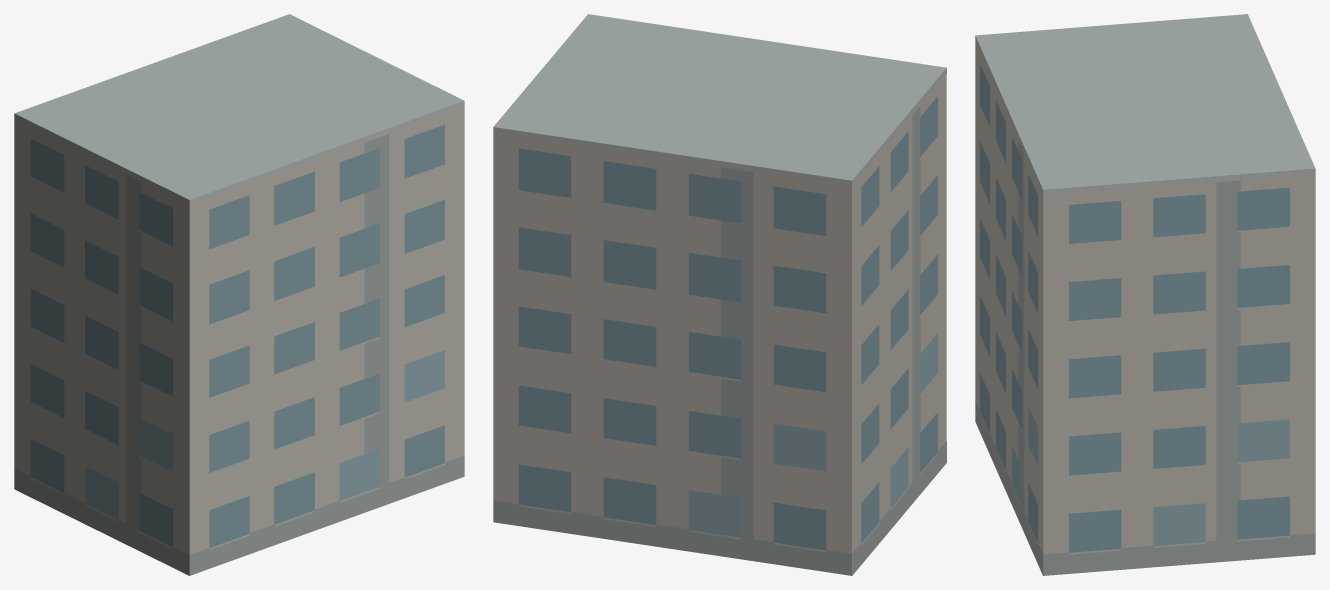
Rendered from residential-e5c7b3e7-d160-48b4-9eb7-259992950f8f.glb.
3 views of the same model, side by side, from view 1: azimuth 30°, elevation 25°; view 2: azimuth 150°, elevation 25°; view 3: azimuth 270°, elevation 25° (orthographic). The views are drawn at different scales.
Visible parts, largest first — view 1: residential-e5c7b3e7-d160-48b4-9eb7-259992950f8f.tmp; view 2: residential-e5c7b3e7-d160-48b4-9eb7-259992950f8f.tmp; view 3: residential-e5c7b3e7-d160-48b4-9eb7-259992950f8f.tmp.
Part boxes in pixels (x1=…): residential-e5c7b3e7-d160-48b4-9eb7-259992950f8f.tmp: x1=14, y1=14, x2=464, y2=575; residential-e5c7b3e7-d160-48b4-9eb7-259992950f8f.tmp: x1=493, y1=14, x2=946, y2=575; residential-e5c7b3e7-d160-48b4-9eb7-259992950f8f.tmp: x1=975, y1=14, x2=1315, y2=575.
Size of the model in its own units: 14.9 by 15.25 by 12.19.
